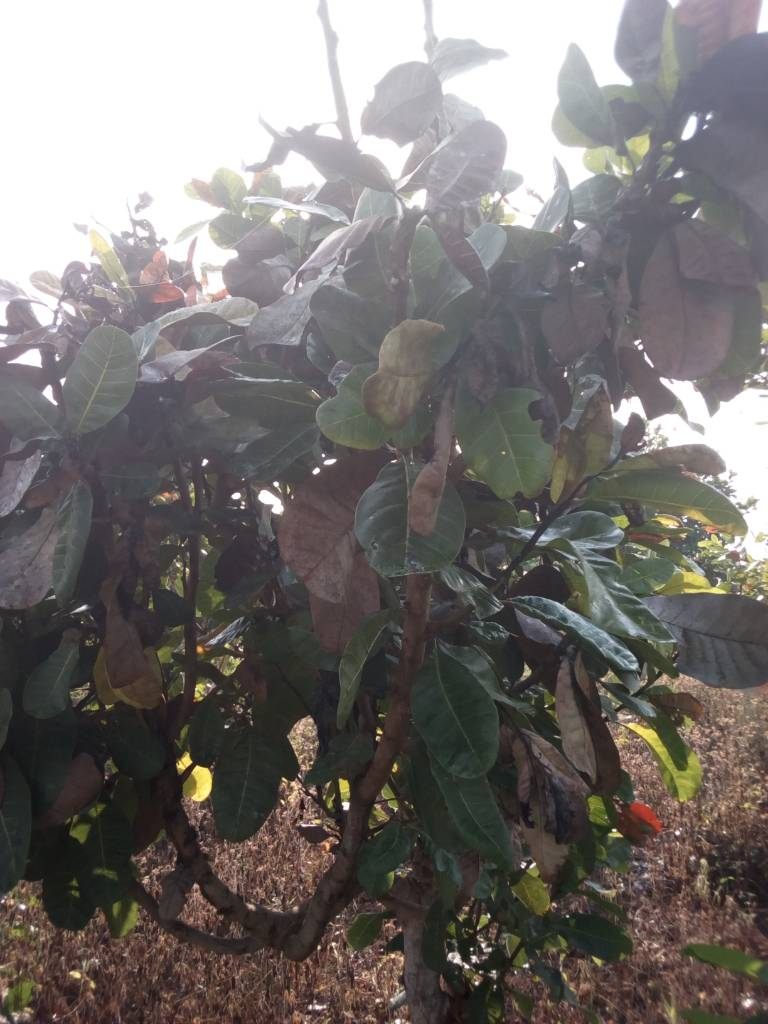Dessèchement des bourgeons: (511, 733, 583, 857)
